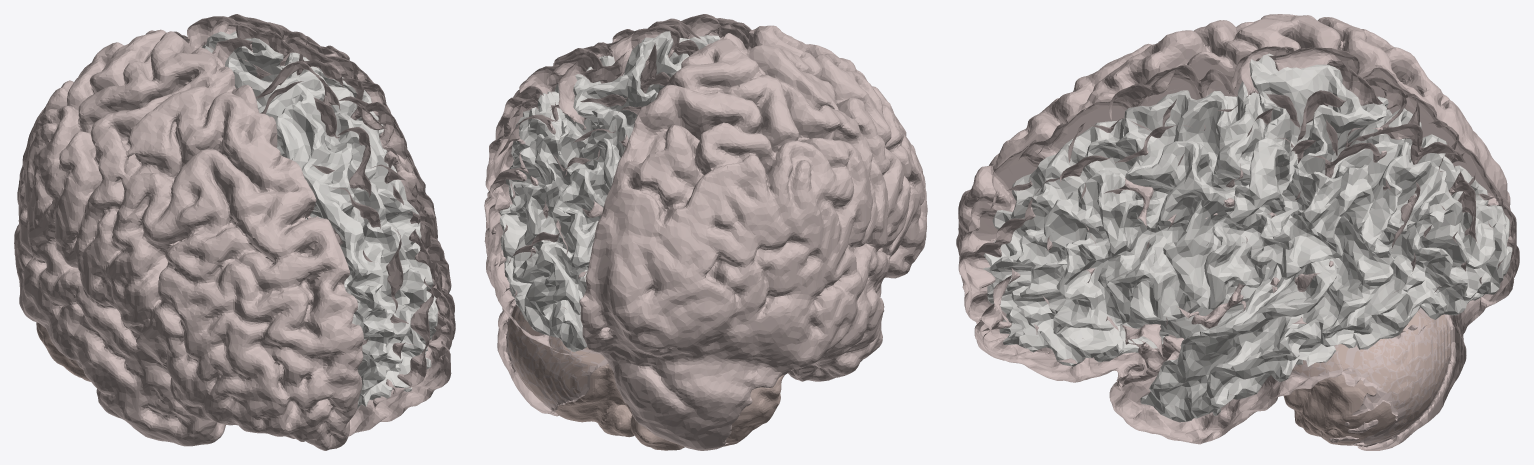
Rendered from mni_brain.glb.
3 views of the same model, side by side, from view 1: azimuth 30°, elevation 25°; view 2: azimuth 150°, elevation 25°; view 3: azimuth 270°, elevation 25° (orthographic). The views are drawn at different scales.
Parts seen in each view (by area): view 1: cortex_right, white_matter_left, cortex_left, cerebellum; view 2: cortex_right, white_matter_left, cortex_left, cerebellum; view 3: white_matter_left, cortex_left, cortex_right, cerebellum.
Part boxes in pixels (x1=…): cortex_right: x1=14, y1=29, x2=363, y2=450; white_matter_left: x1=202, y1=31, x2=438, y2=408; cortex_left: x1=174, y1=14, x2=455, y2=436; cerebellum: x1=36, y1=322, x2=90, y2=381; cortex_right: x1=579, y1=25, x2=927, y2=450; white_matter_left: x1=499, y1=31, x2=720, y2=352; cortex_left: x1=484, y1=14, x2=751, y2=416; cerebellum: x1=508, y1=306, x2=784, y2=450; white_matter_left: x1=982, y1=53, x2=1512, y2=422; cortex_left: x1=958, y1=46, x2=1519, y2=450; cortex_right: x1=956, y1=14, x2=1510, y2=283; cerebellum: x1=1283, y1=310, x2=1450, y2=445.
Size of the model in its own units: 0.1033 by 0.1078 by 0.1427.
